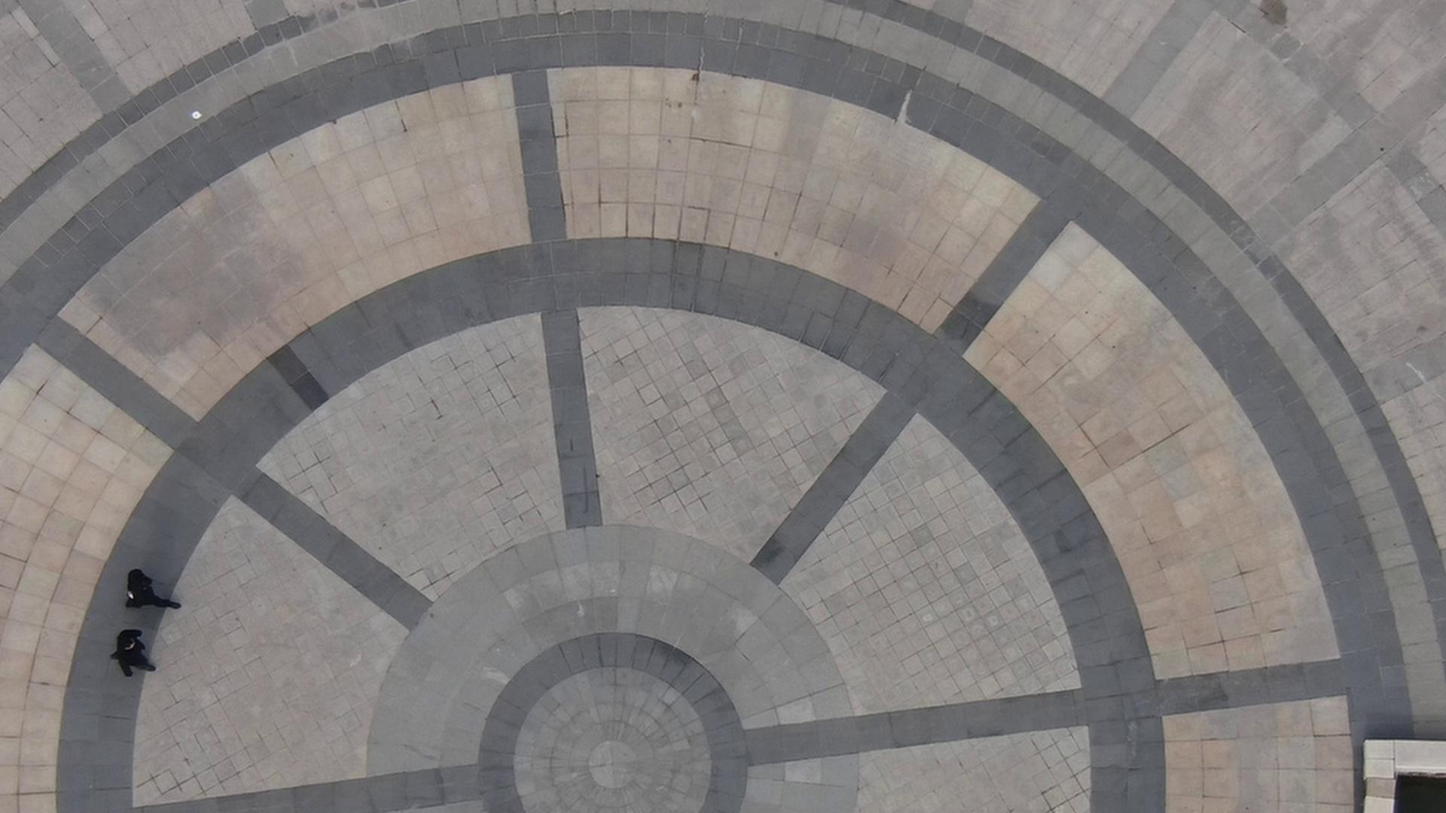human: (117, 623, 177, 681), (134, 550, 192, 604)
